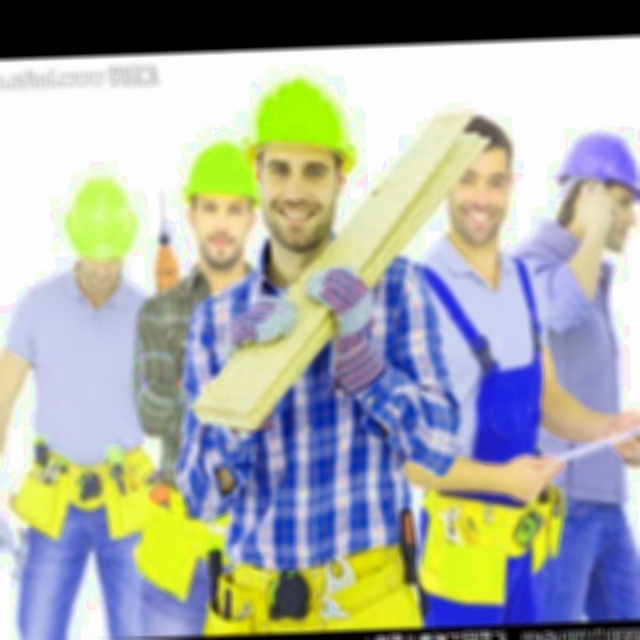Con_Casco: (242, 75, 353, 242), (64, 173, 136, 283)
Sin_Chaleco: (197, 252, 422, 563), (415, 248, 549, 494)
